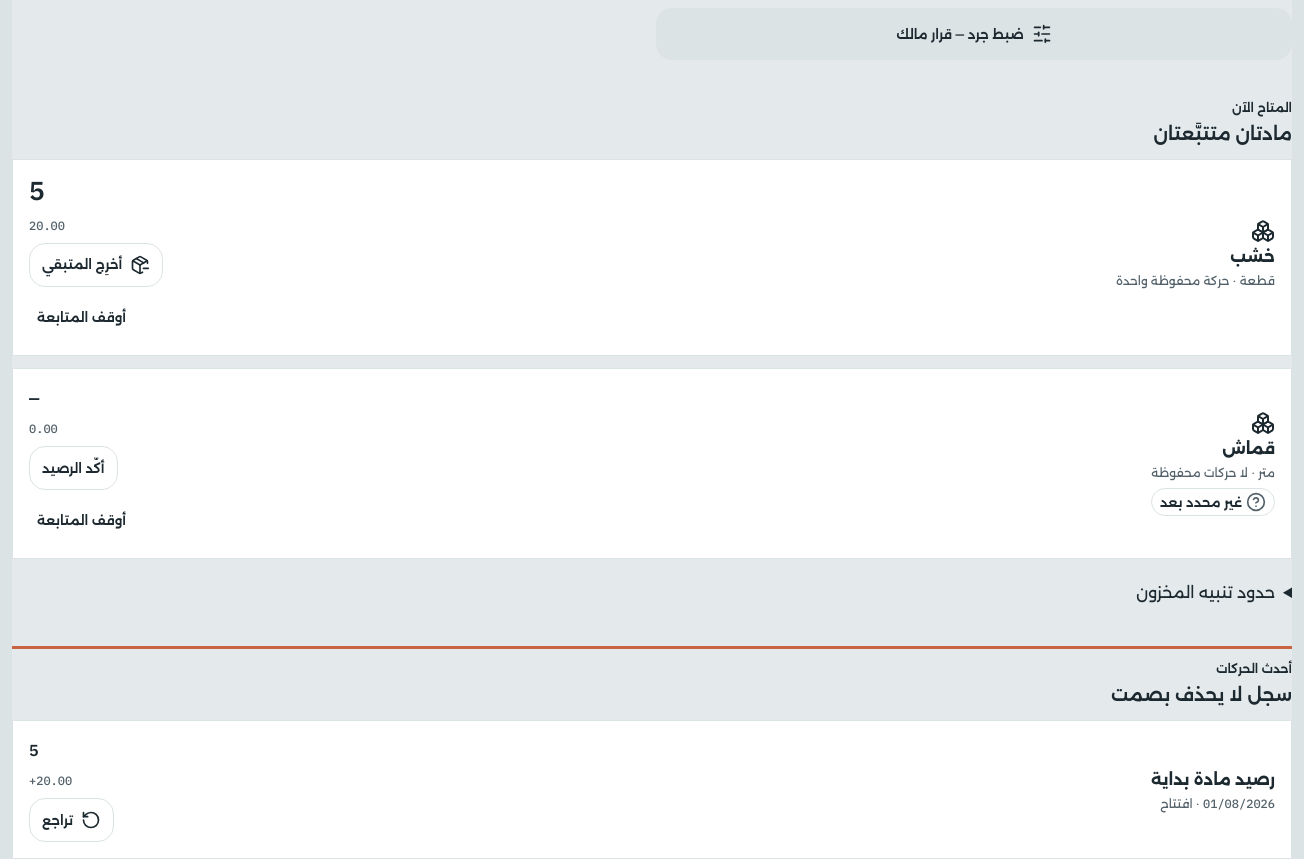
Test: Stage 2 — OPS-002: سطح المواد يعرض تنبيه انخفاض المخزون بصدق › إدخال حد وحفظه داخل التفاصيل يفعّل التنبيه بعد إعادة الاشتقاق — بلا إعادة تحميل
The width and height of the screenshot is (1304, 859).
(page scrolled)
Click the heading "حدود تنبيه المخزون". click: (1206, 592)
box: [1136,583,1275,602]
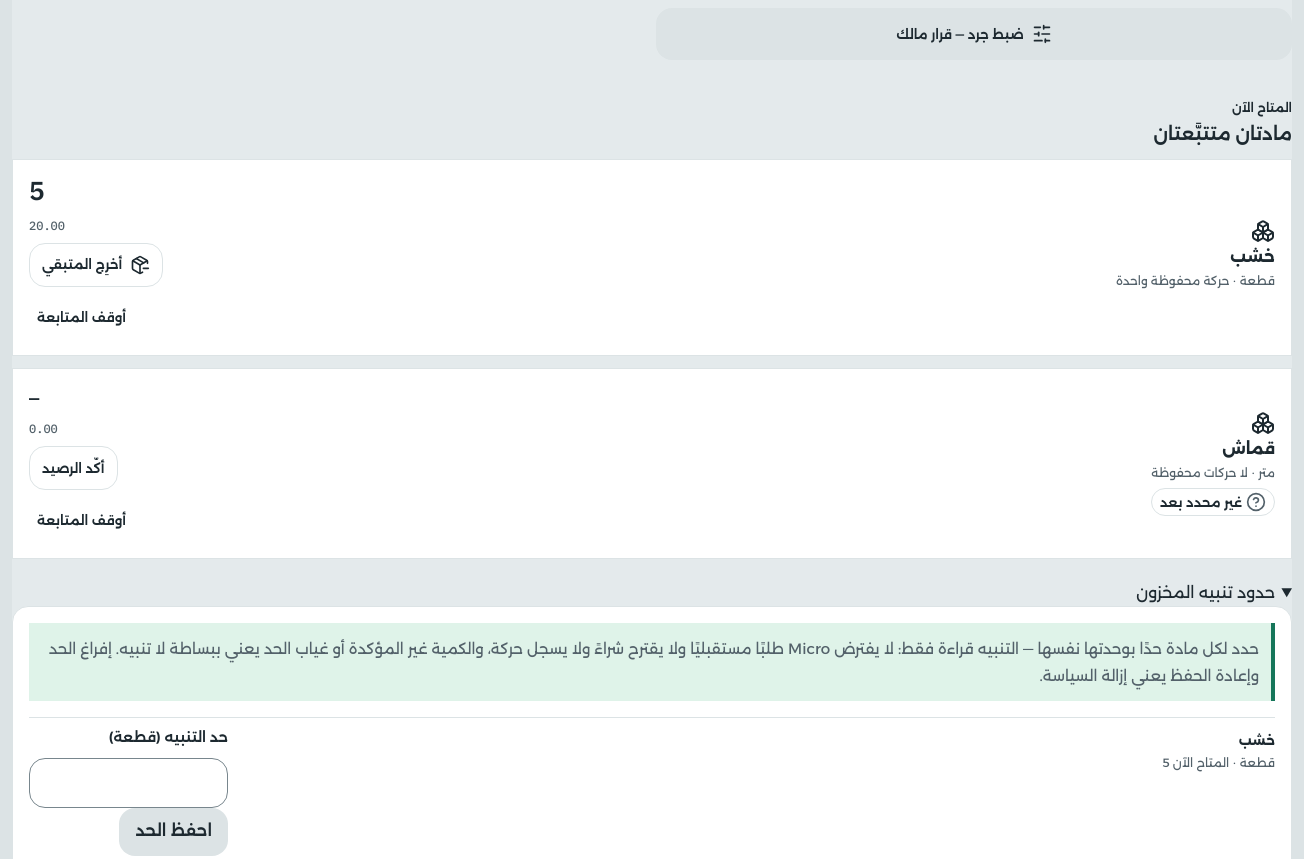
Type "8" into the field with test id "low-stock-input-خشب". click: (128, 783)
box: [29,758,228,808]
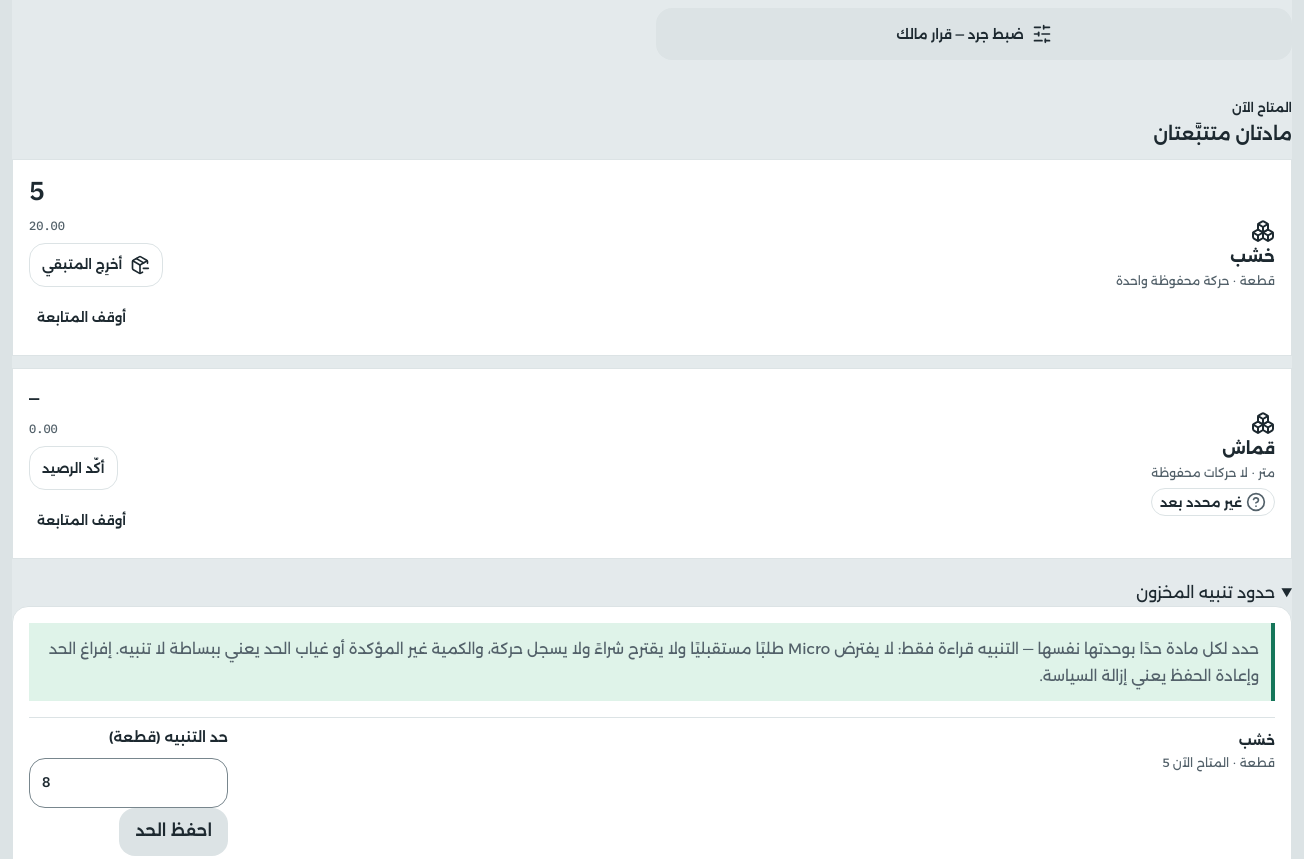
Click the button "احفظ الحد". click: (174, 832)
box: [119,808,228,856]
(page scrolled)
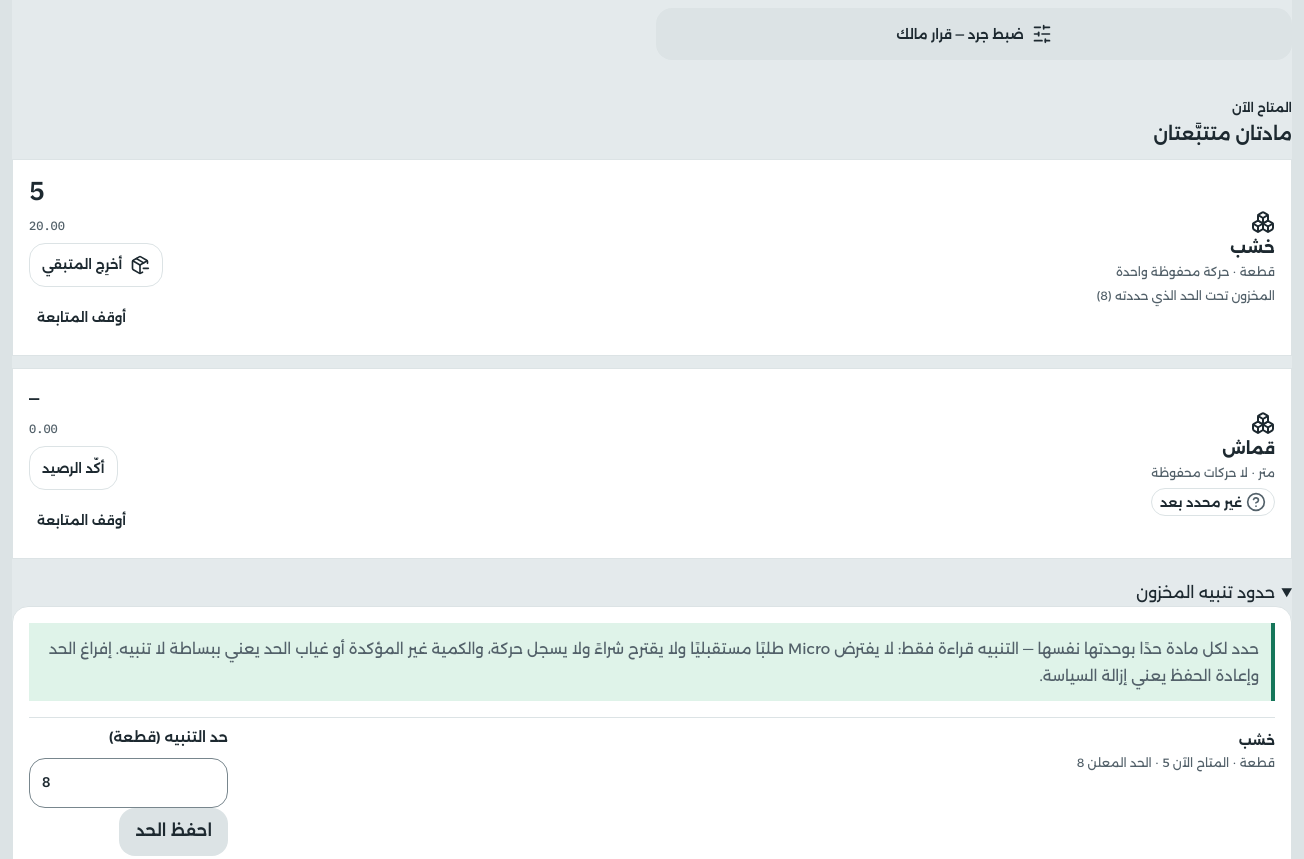
Now the text with test id "low-stock-alert-خشب" shows "المخزون تحت الحد الذي حددته", box [1097,288,1275,303]
